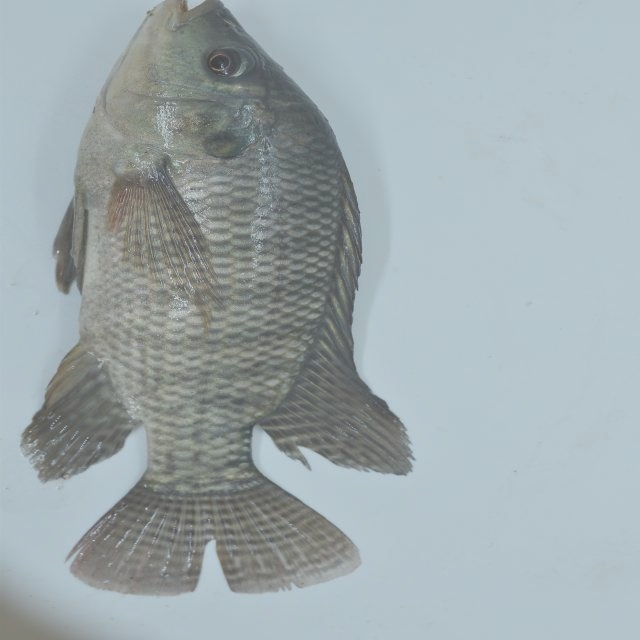Healthy Fish: (19, 0, 418, 598)
